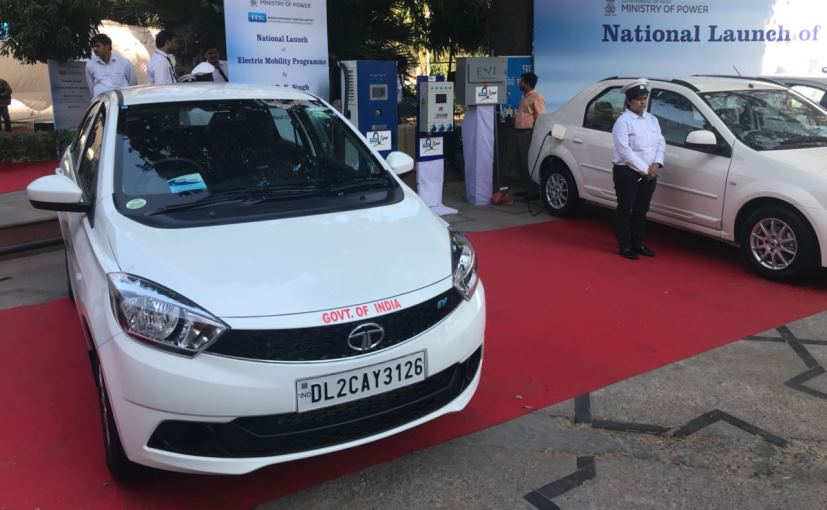numberplate: (295, 350, 428, 412)
